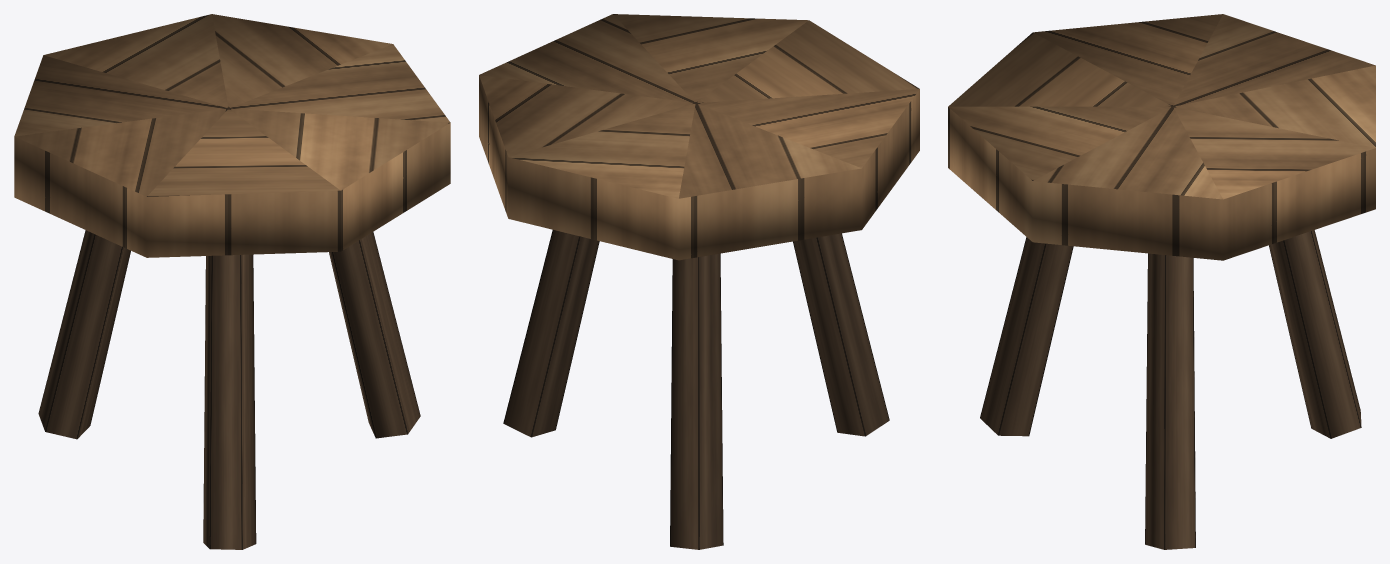
Rendered from Stool_Low_1_LOD1.gltf.
3 renders of one model, left to right at view 1: azimuth 30°, elevation 25°; view 2: azimuth 150°, elevation 25°; view 3: azimuth 270°, elevation 25°, orthographic.
Parts seen in each view (by area): view 1: Stool_Low_1_LOD1; view 2: Stool_Low_1_LOD1; view 3: Stool_Low_1_LOD1.
Boxes of the visible parts, x1=… form: Stool_Low_1_LOD1: x1=14, y1=14, x2=450, y2=549; Stool_Low_1_LOD1: x1=479, y1=14, x2=919, y2=549; Stool_Low_1_LOD1: x1=948, y1=14, x2=1375, y2=549.
Size of the model in its own units: 0.39 by 0.3558 by 0.3802.
2 materials, 2 textured.
